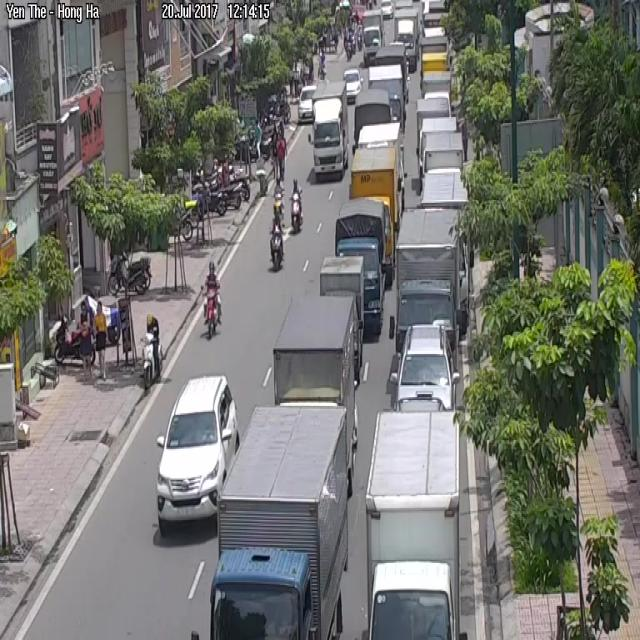car: (142, 314, 162, 388), (204, 262, 220, 338), (0, 221, 16, 276), (291, 181, 302, 231), (271, 227, 283, 270), (273, 184, 283, 225)
traffic-light: (156, 375, 239, 533), (391, 324, 458, 409), (298, 86, 316, 121), (344, 70, 362, 102)
truck: (211, 403, 349, 639), (365, 400, 459, 613), (335, 200, 389, 319), (349, 147, 402, 259), (320, 256, 364, 344), (312, 83, 348, 179), (352, 89, 392, 144), (368, 65, 405, 121), (395, 10, 418, 70), (358, 123, 399, 148), (369, 43, 406, 68), (363, 10, 382, 52)
